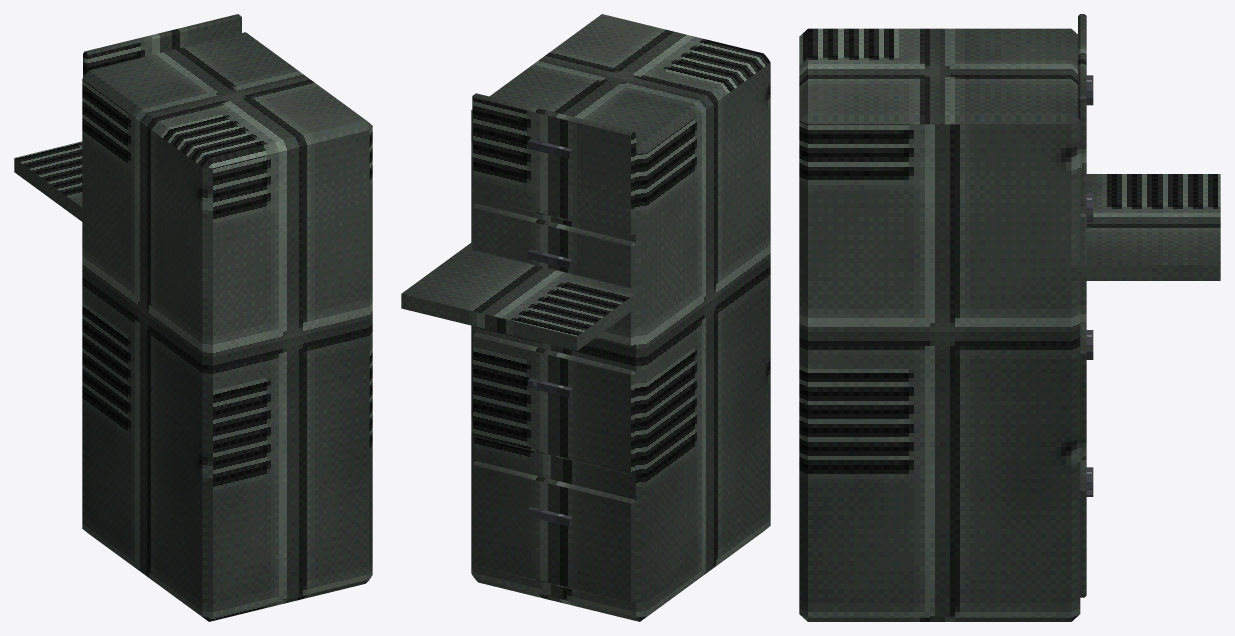
File: int_filing_cabinet.glb
The picture shows the model from 3 angles, left to right: view 1: azimuth 30°, elevation 25°; view 2: azimuth 150°, elevation 25°; view 3: azimuth 270°, elevation 25°; orthographic projection. The views are drawn at different scales.
Visible parts, largest first — view 1: int_filing_cabinet_mesh; view 2: int_filing_cabinet_mesh; view 3: int_filing_cabinet_mesh.
Boxes of the visible parts, x1,y1,x2,y2 form: int_filing_cabinet_mesh: (14,14,372,621); int_filing_cabinet_mesh: (401,14,770,621); int_filing_cabinet_mesh: (799,14,1220,621).
Size of what is drawn, in the model's own units: 0.5 by 1.34 by 0.975.
2 materials, 2 textured.
